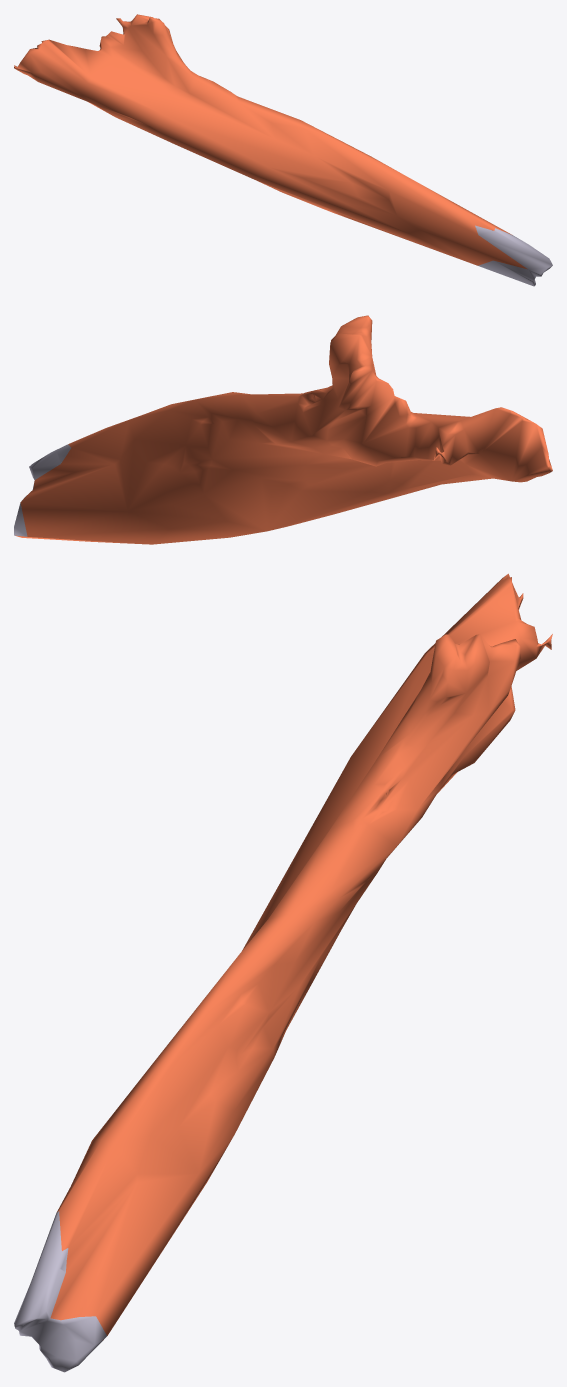
Rendered from Opponens_pollicis_left.glb.
The picture shows the model from 3 angles, top to bottom: view 1: azimuth 30°, elevation 25°; view 2: azimuth 150°, elevation 25°; view 3: azimuth 270°, elevation 25°; orthographic projection. The views are drawn at different scales.
Visible parts, largest first — view 1: Opponens_pollicis_muscle.l_Generated_Mesh_From_X3D.314; view 2: Opponens_pollicis_muscle.l_Generated_Mesh_From_X3D.314; view 3: Opponens_pollicis_muscle.l_Generated_Mesh_From_X3D.314.
Boxes of the visible parts, x1,y1,x2,y2 form: Opponens_pollicis_muscle.l_Generated_Mesh_From_X3D.314: [14, 14, 552, 286]; Opponens_pollicis_muscle.l_Generated_Mesh_From_X3D.314: [14, 315, 552, 544]; Opponens_pollicis_muscle.l_Generated_Mesh_From_X3D.314: [14, 573, 552, 1372].
Size of the model in its own units: 0.0463 by 0.0284 by 0.0288.
